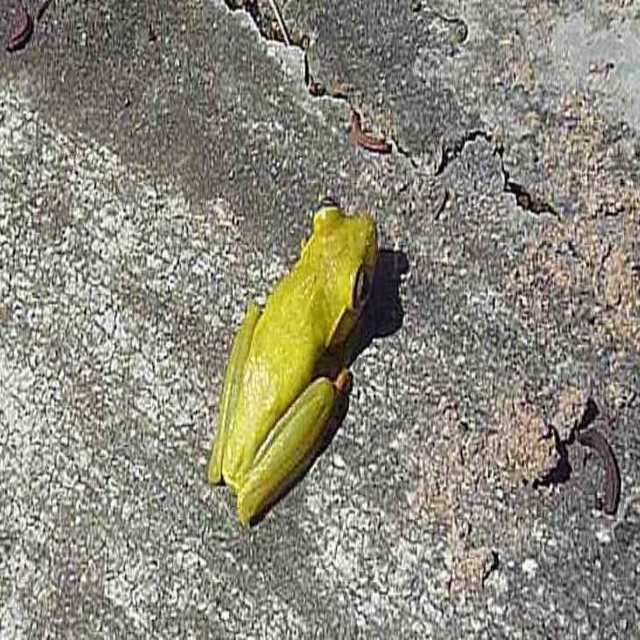Frog: (205, 195, 376, 528)
